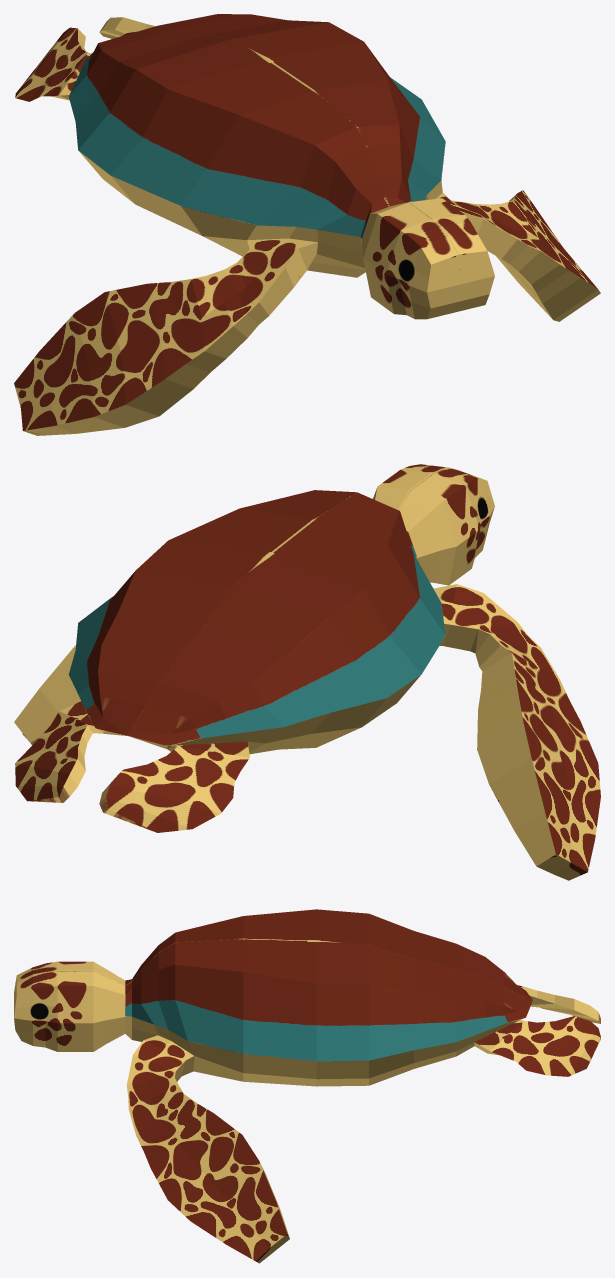
File: goofyturtle.fbx
3 views of the same model, one above another, from view 1: azimuth 30°, elevation 25°; view 2: azimuth 150°, elevation 25°; view 3: azimuth 270°, elevation 25° (orthographic). The views are drawn at different scales.
Parts seen in each view (by area): view 1: Turtle; view 2: Turtle; view 3: Turtle.
Part boxes in pixels (x1=…): Turtle: x1=14, y1=14, x2=600, y2=435; Turtle: x1=14, y1=464, x2=600, y2=880; Turtle: x1=14, y1=909, x2=600, y2=1263.
Bounding box in the file's own units: 1662 × 811 × 1926.
1 material, 1 textured.
